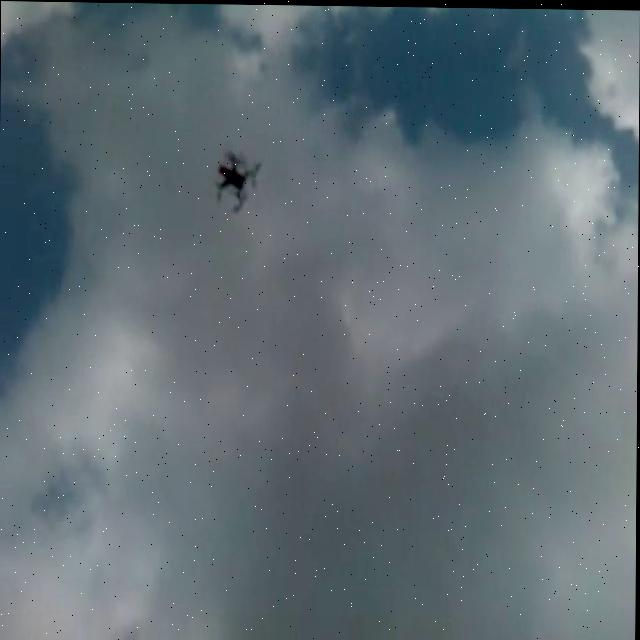drone: (213, 149, 263, 212)
